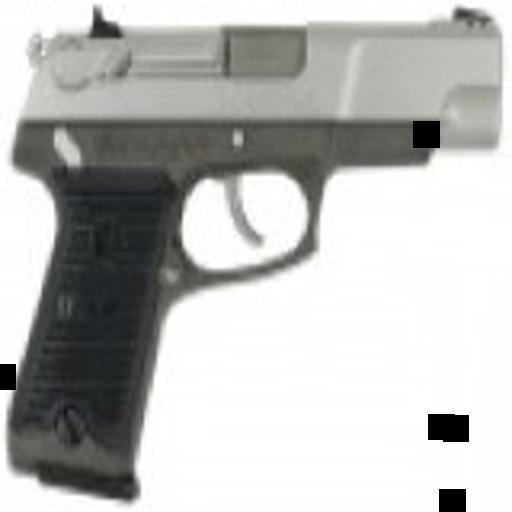Handgun: (18, 3, 501, 481)
